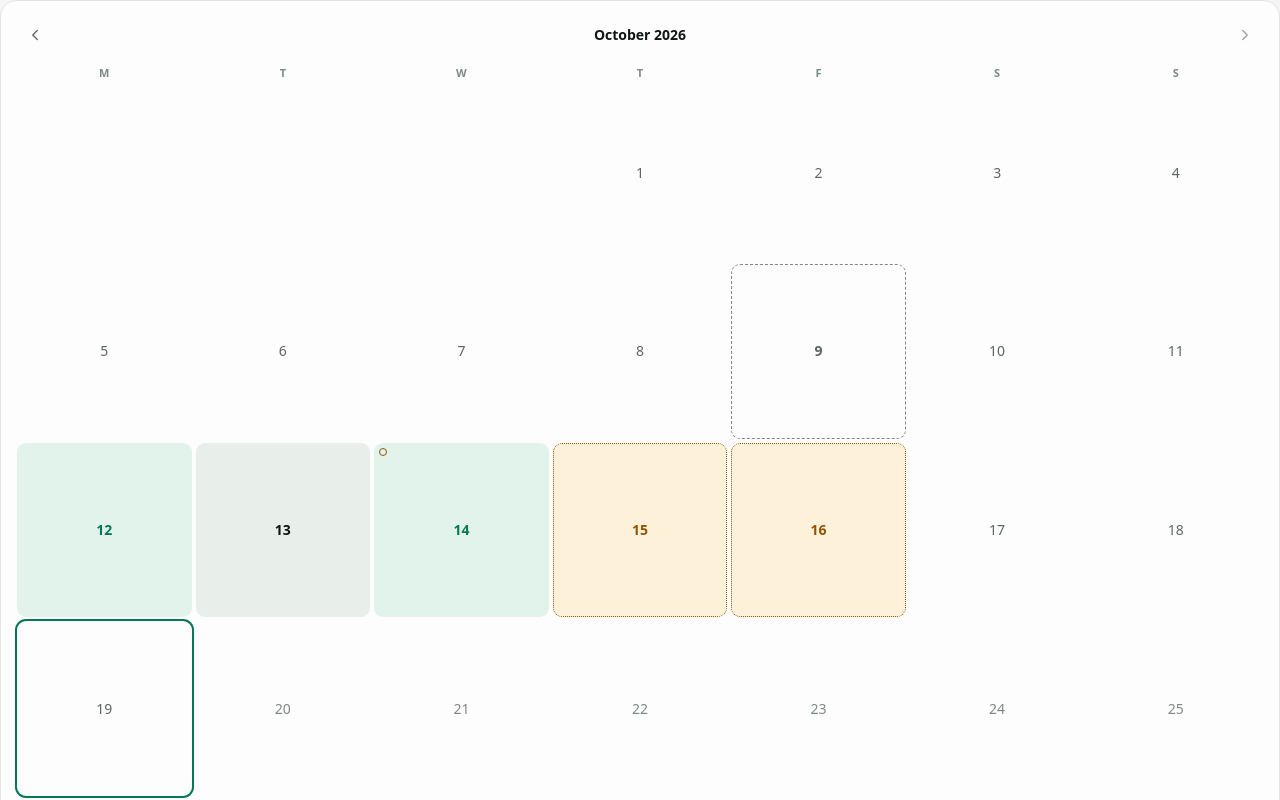
it: MonthTab days subscription › asks for the previous income year from June 2026 on
What coordinates should you click on to do the following:
click the button named "Previous month"
I would click on:
 (35, 35)
Its box is [17, 17, 53, 53].
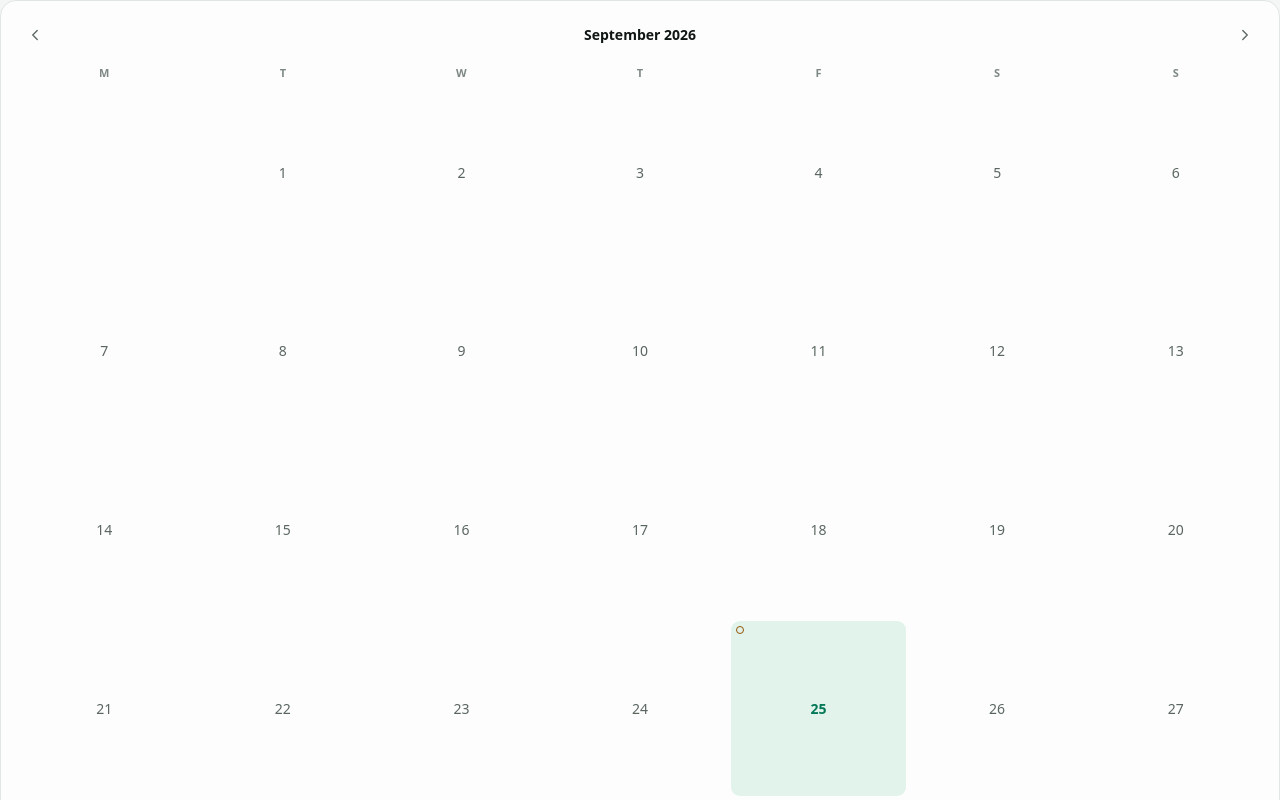
What coordinates should you click on to do the following:
click the button named "Previous month"
I would click on:
 (35, 35)
Its box is [17, 17, 53, 53].
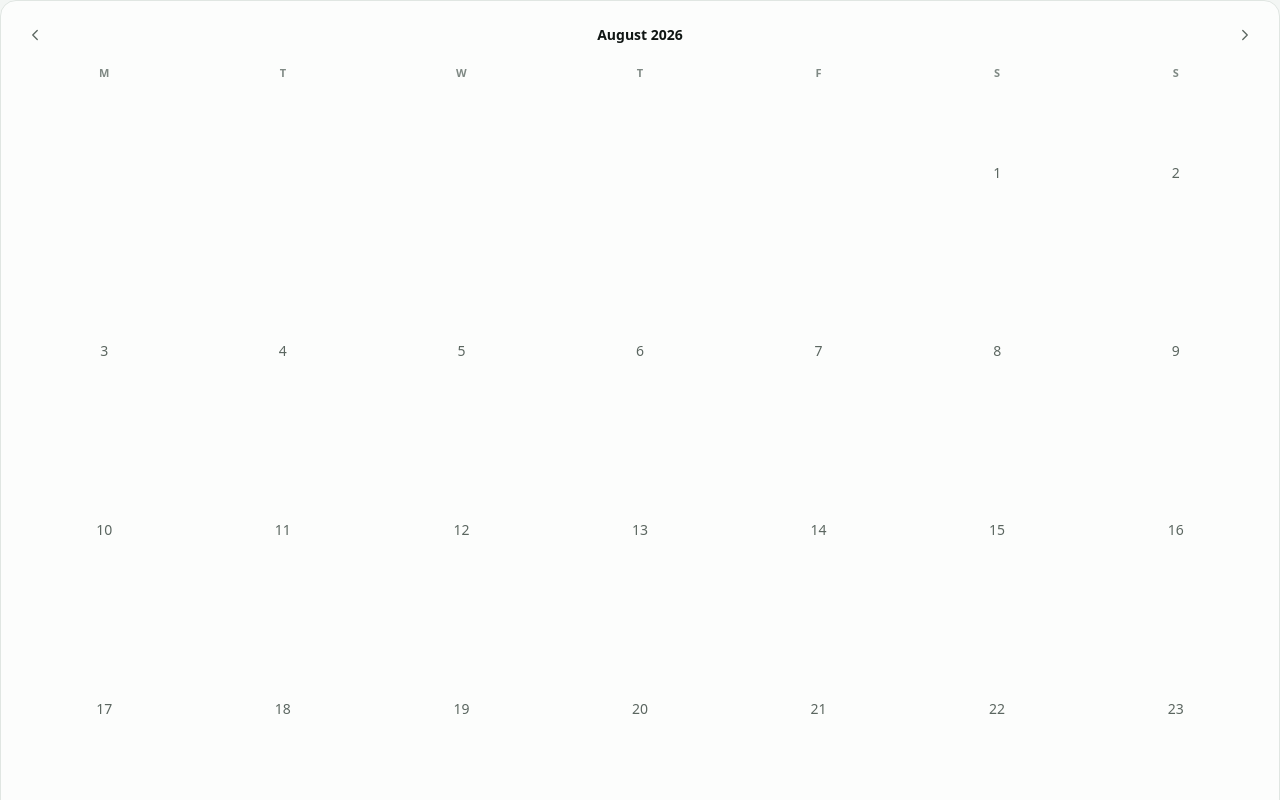
What coordinates should you click on to do the following:
click the button named "Previous month"
I would click on:
 (35, 35)
Its box is [17, 17, 53, 53].
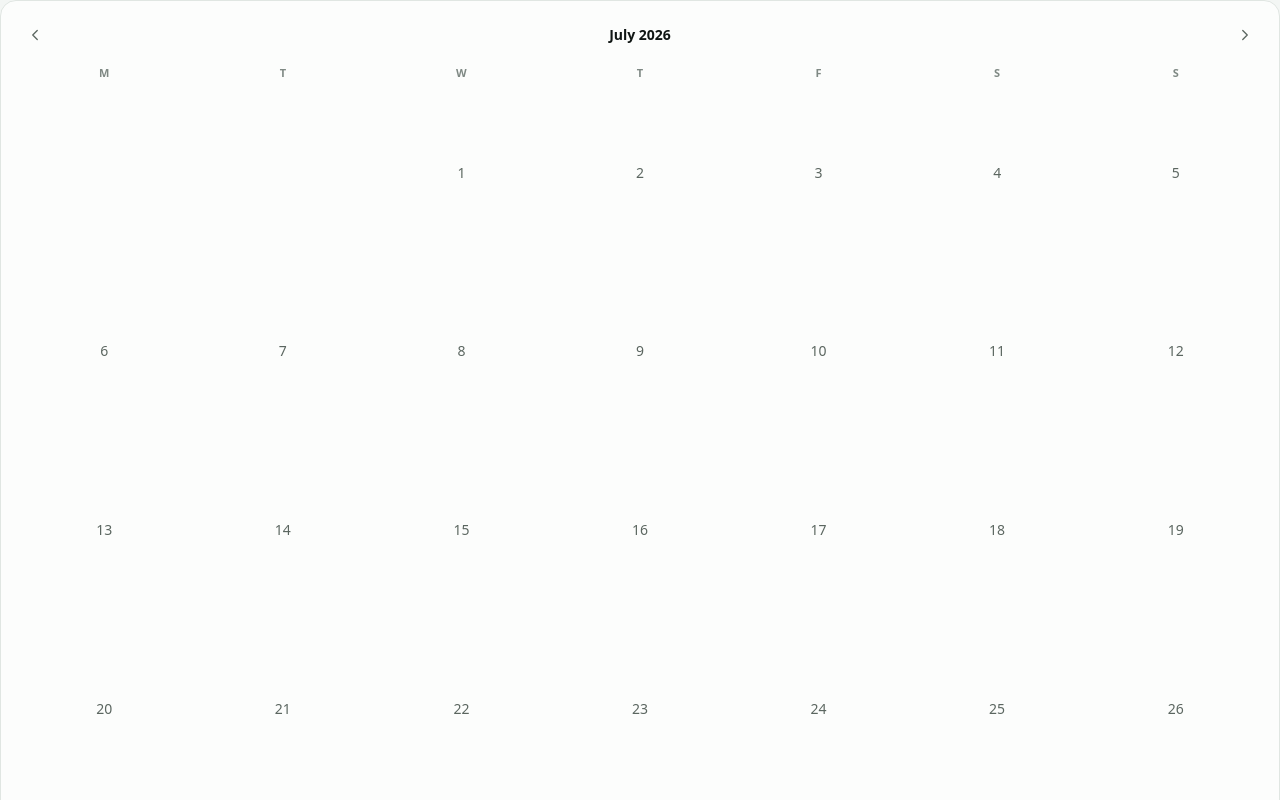
What coordinates should you click on to do the following:
click the button named "Previous month"
I would click on:
 (35, 35)
Its box is [17, 17, 53, 53].
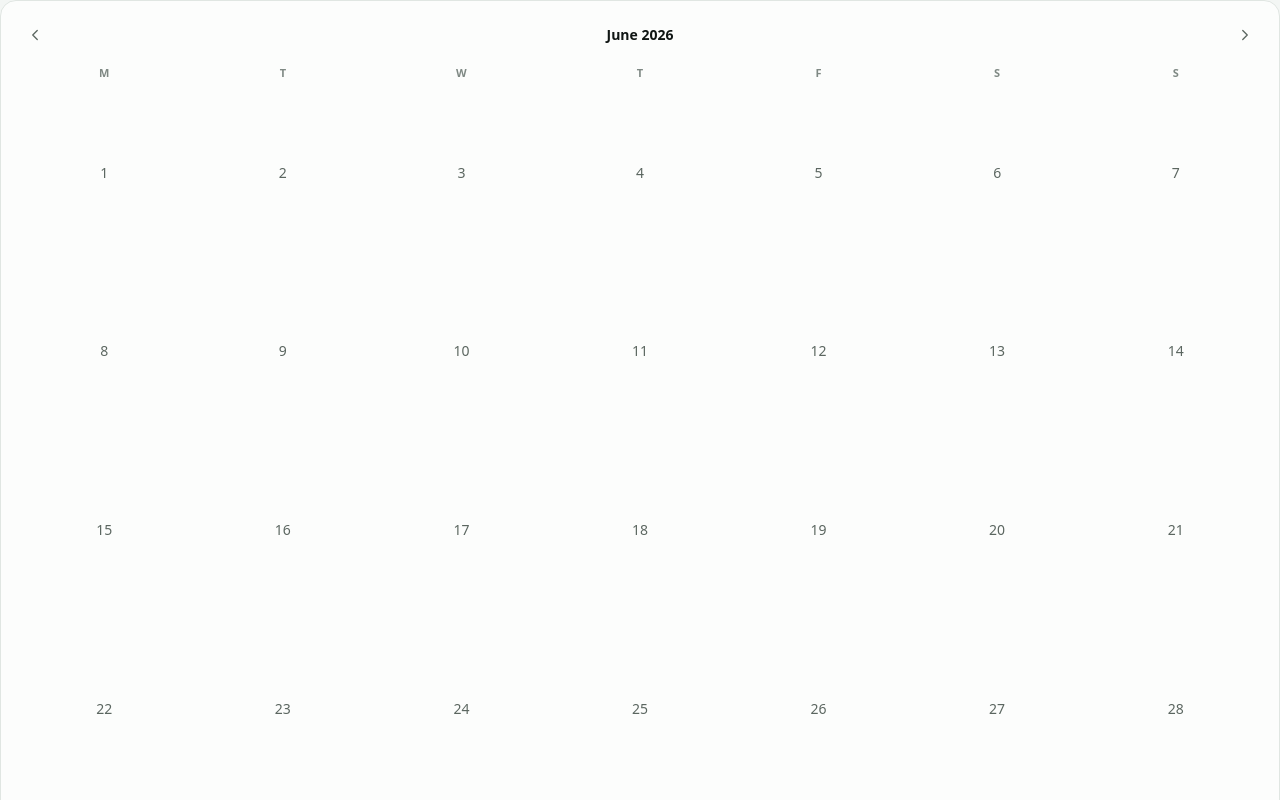
Result: the heading "June 2026" is shown at [606, 25, 674, 45]
What coordinates should you click on to do the following:
click the button named "Previous month"
I would click on:
 (35, 35)
Its box is [17, 17, 53, 53].
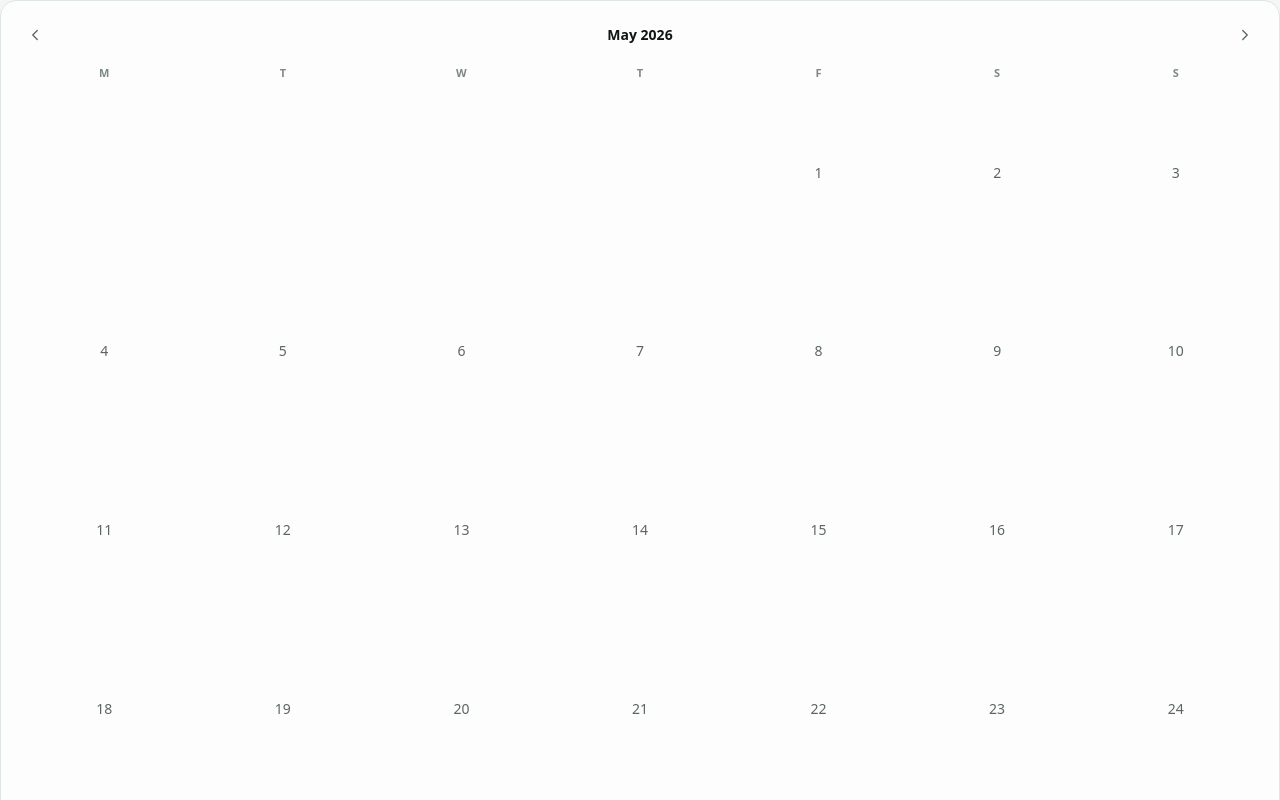
Result: the heading "May 2026" is shown at [607, 25, 673, 45]
